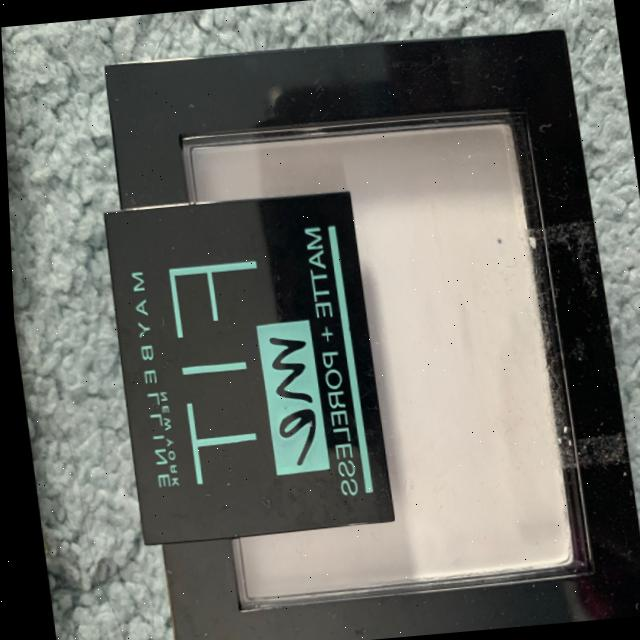powder: (72, 24, 640, 640)
